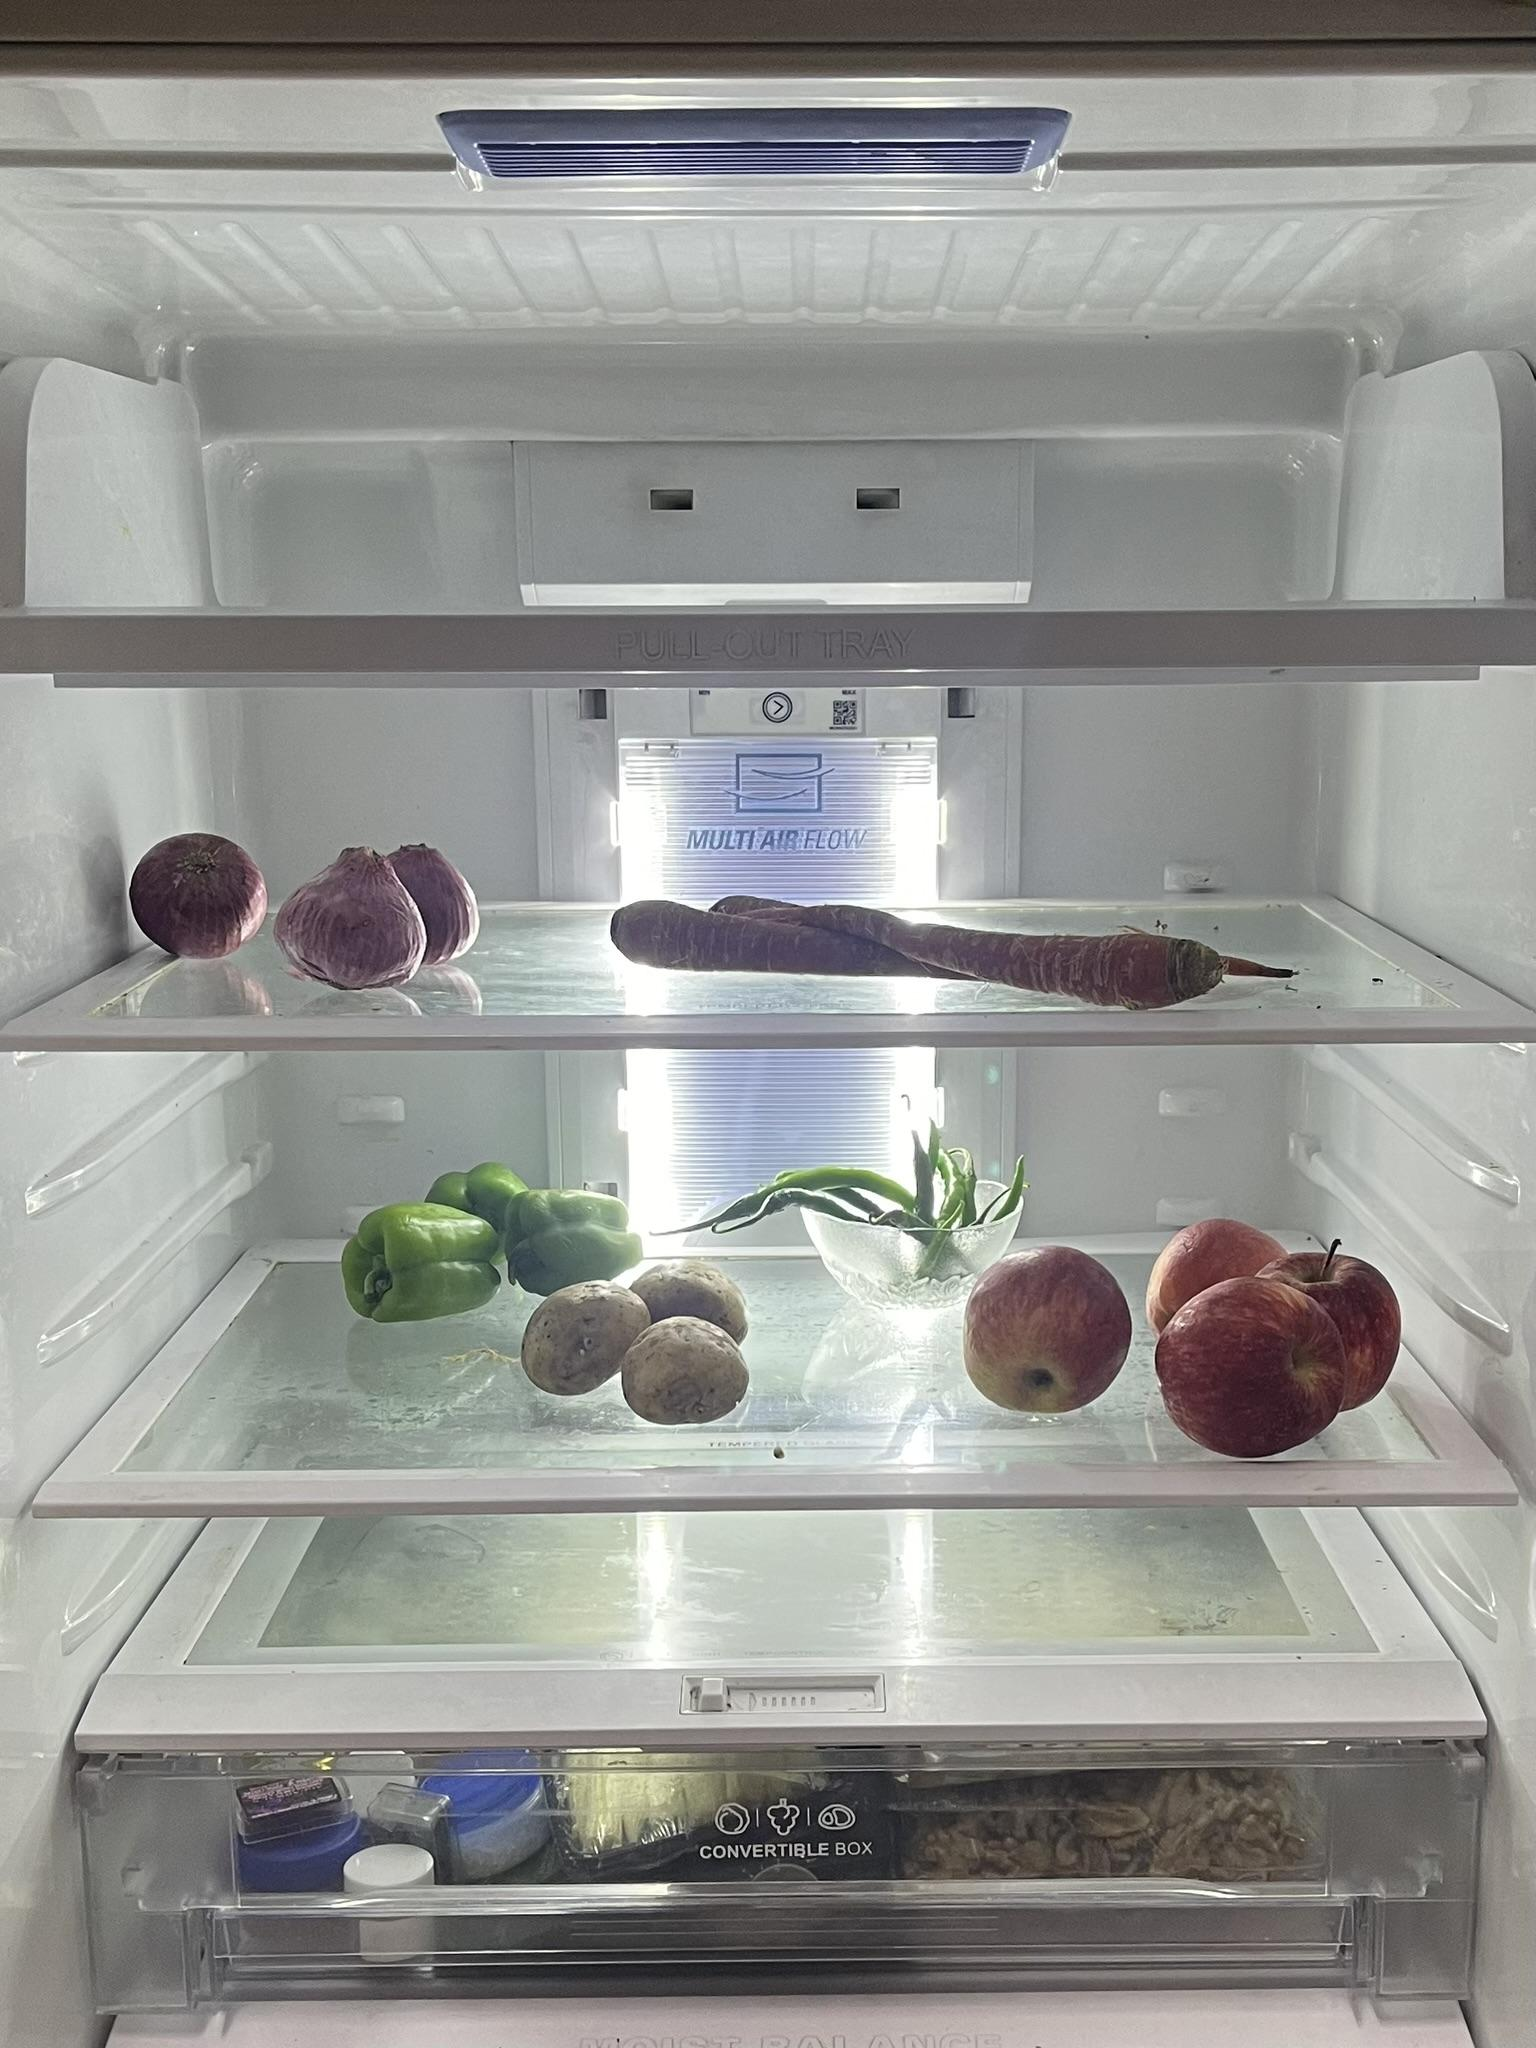apple: (1141, 1224, 1413, 1453), (954, 1237, 1133, 1409)
capsicum: (353, 1147, 644, 1313)
carrots: (610, 877, 1267, 1003)
chillies: (697, 1143, 1023, 1240)
onion: (281, 840, 503, 993), (134, 830, 273, 953)
potato: (507, 1256, 763, 1430)
